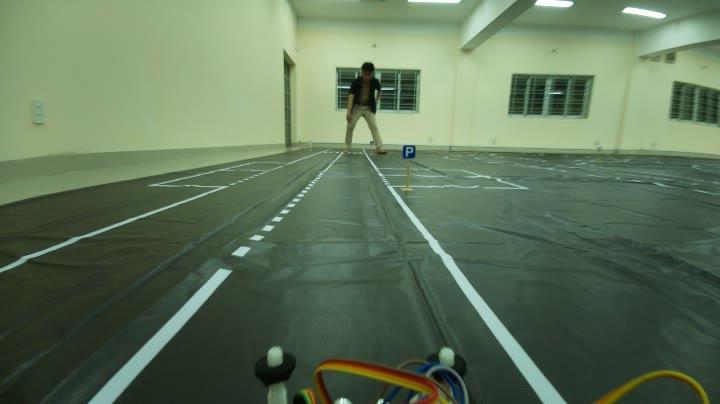parking: (399, 135, 421, 165)
